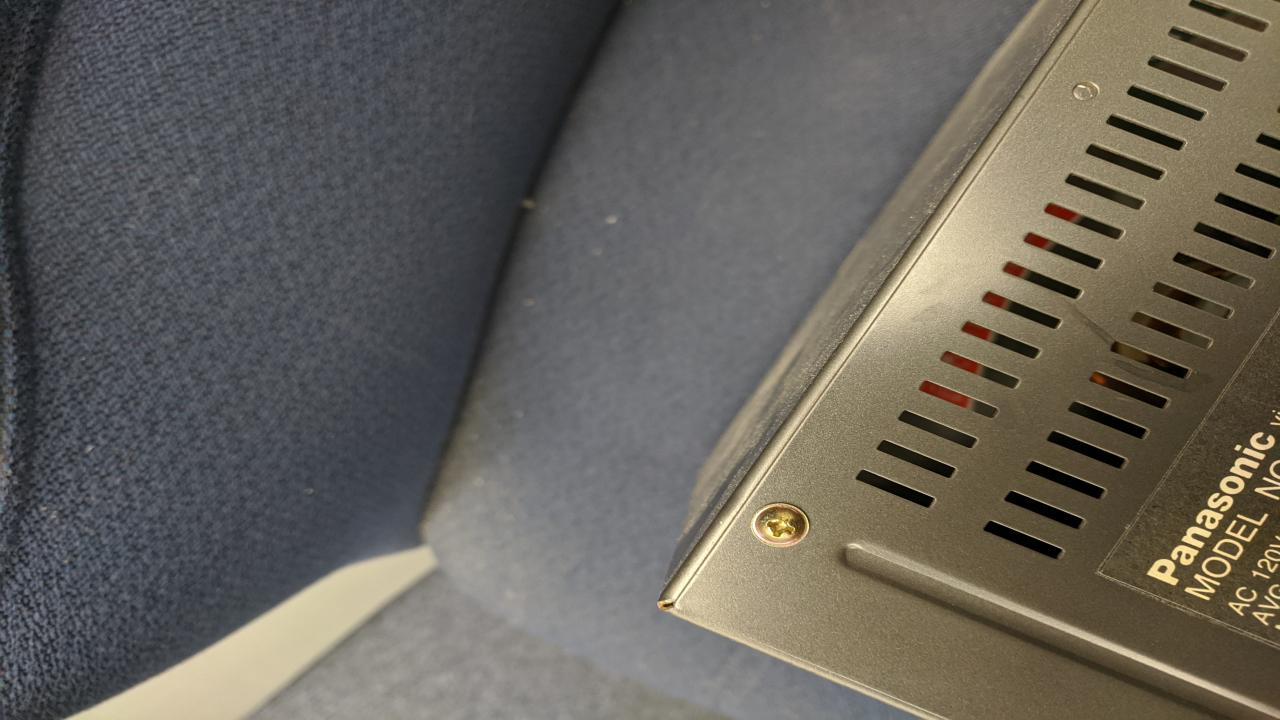CRS: (753, 499, 808, 544)
